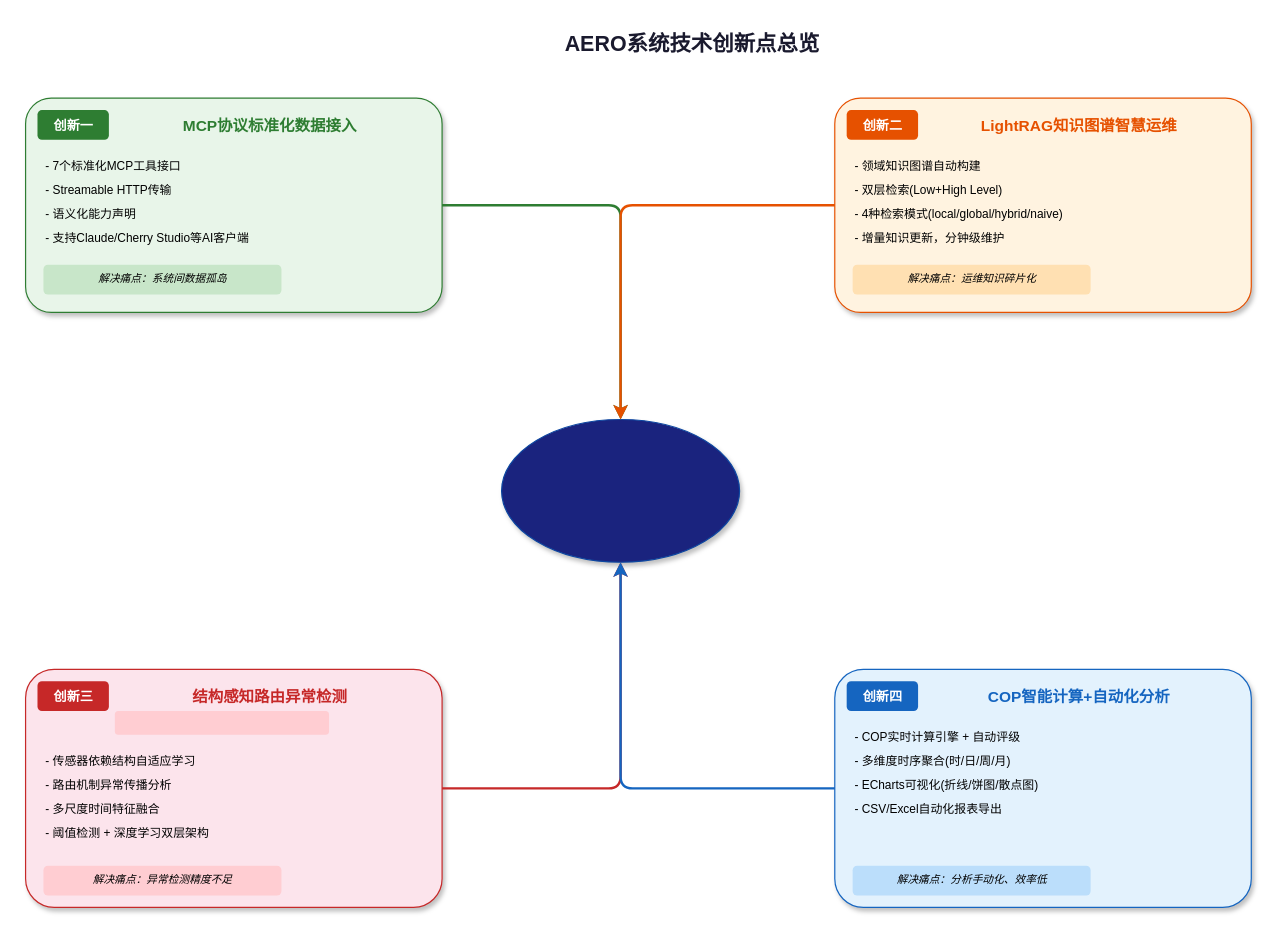
The diagram is 1279 pixels wide and 937 high, and some of its shapes have lost their labels. The centre of each missing label's shape, as x and y in pixels:
"[EAAI 2025, JCR Q1, IF=8]" belongs at point 221,722.
"AERO 建筑能源智能管理 与运营优化系统" belongs at point 621,492.
